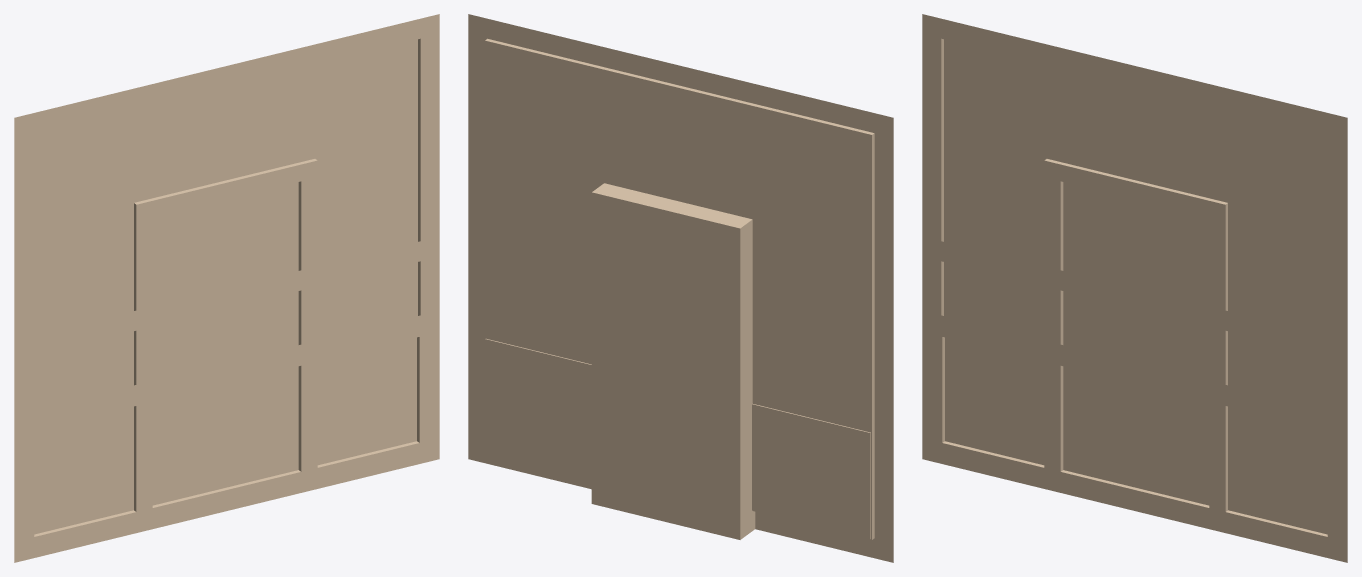
File: DopStaff6WallstoUE.fbx
3 renders of one model, left to right at view 1: azimuth 30°, elevation 25°; view 2: azimuth 150°, elevation 25°; view 3: azimuth 330°, elevation 25°, orthographic.
Visible parts, largest first — view 1: Plane.276, Plane.271, Plane.245, Plane.272; view 2: Plane.245, Plane.276, Plane.272; view 3: Plane.276, Plane.271, Plane.245, Plane.272.
Part boxes in pixels (x1,y1,x2,y2): Plane.276: (14,14,439,556); Plane.271: (14,236,439,559); Plane.245: (17,130,422,561); Plane.272: (14,315,439,562); Plane.245: (468,14,893,560); Plane.276: (485,40,874,539); Plane.272: (485,338,893,562); Plane.276: (922,14,1347,557); Plane.271: (922,236,1347,560); Plane.245: (922,39,1227,517); Plane.272: (922,315,1347,562).
Size of the model in its own units: 300 by 300 by 18.33.
